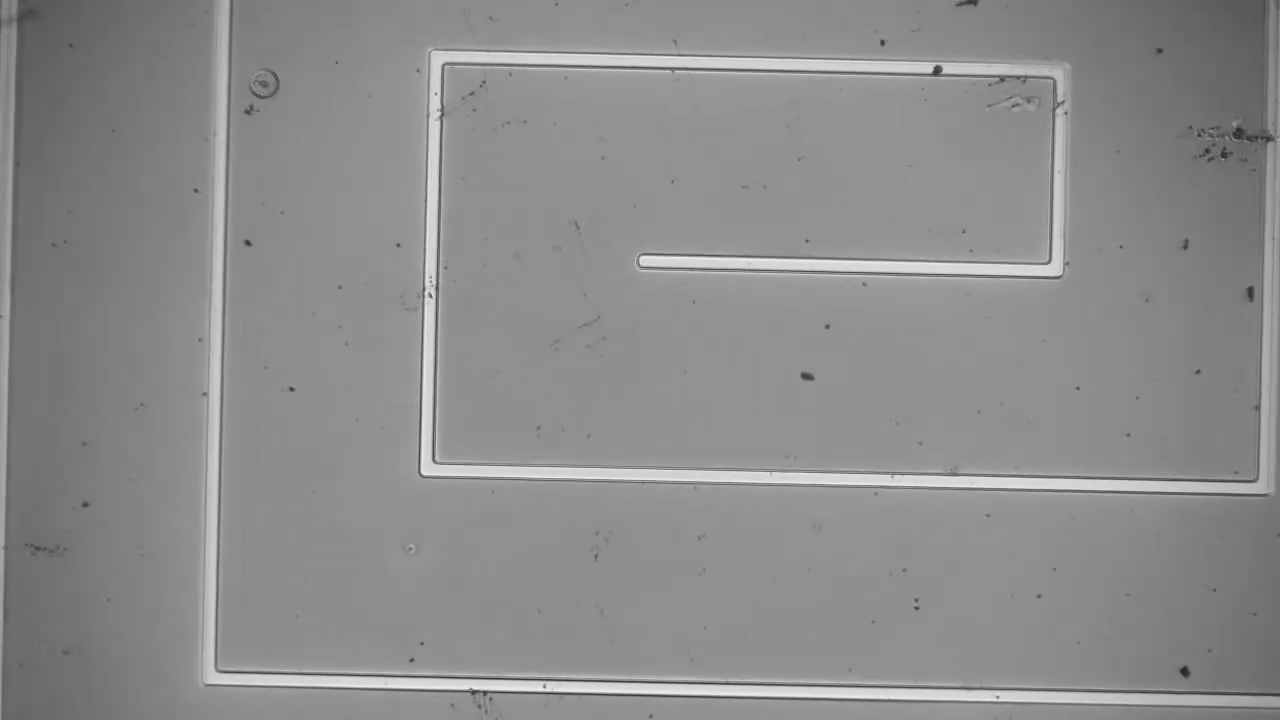stains_enbedded: (930, 52, 954, 87)
